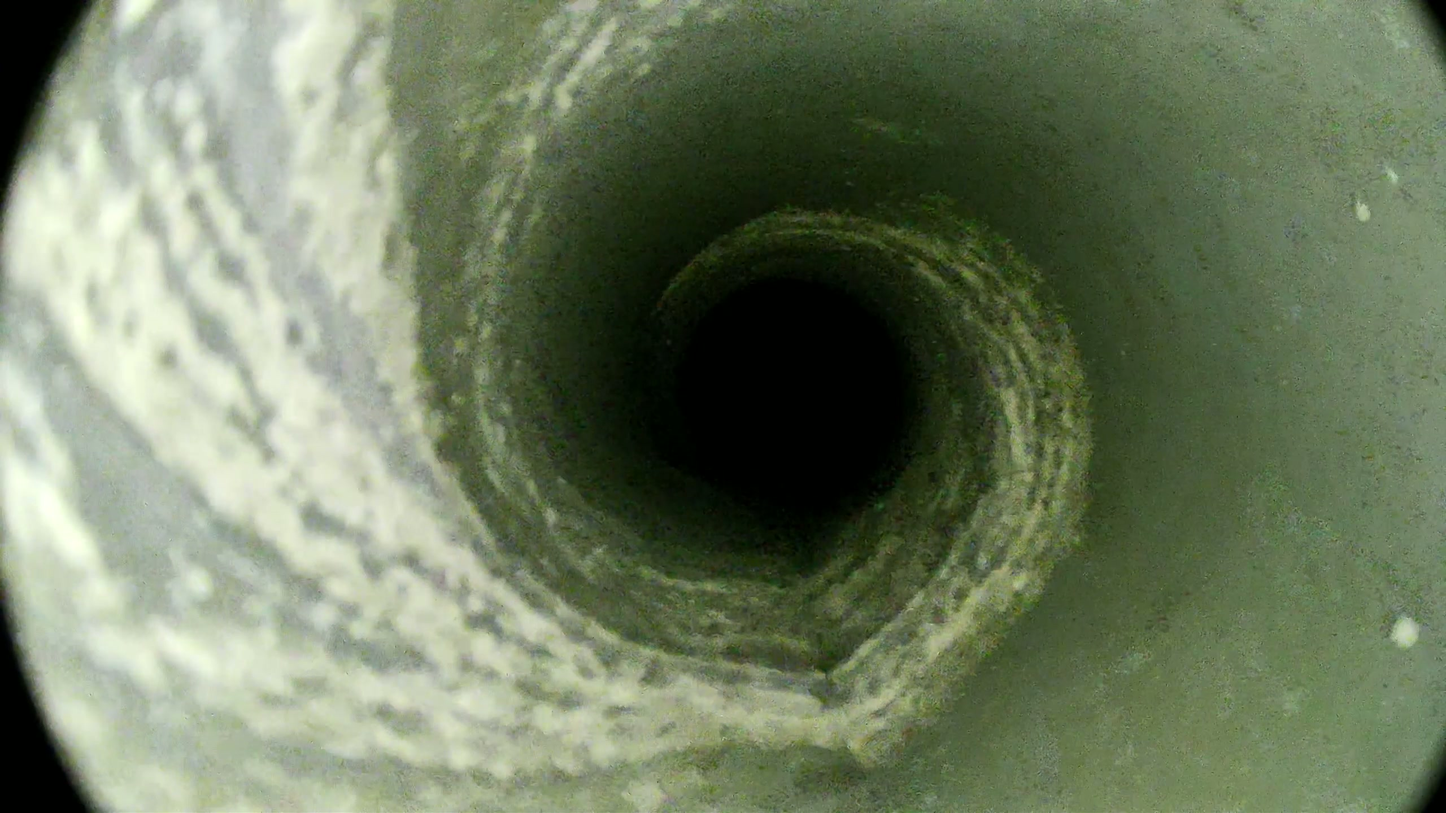hole: (680, 281, 900, 503)
